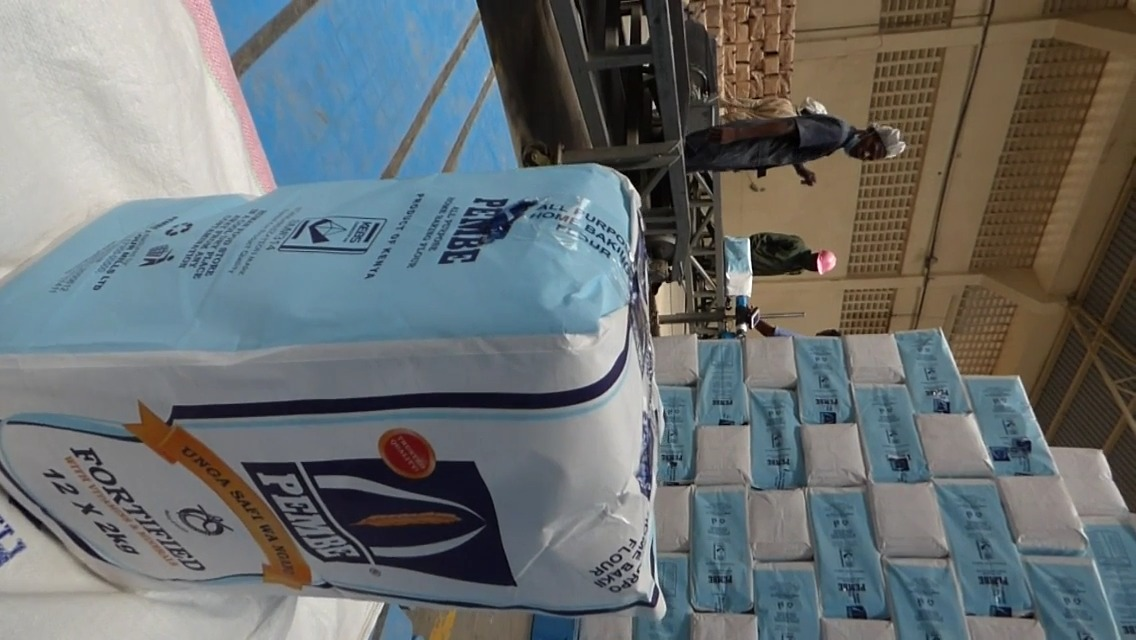wheat_flour_blue_label: (6, 162, 664, 622)
